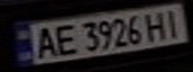2: (109, 15, 130, 48)
3: (78, 19, 100, 53)
6: (124, 12, 148, 45)
9: (93, 17, 115, 51)
A: (27, 24, 60, 60)
E: (48, 21, 81, 57)
H: (142, 9, 172, 42)
I: (157, 7, 187, 38)
